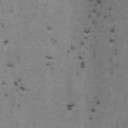oxide scale of temperature system: (66, 0, 119, 77), (0, 77, 26, 107), (89, 100, 101, 120), (0, 22, 9, 46), (46, 26, 57, 44), (6, 55, 21, 68), (66, 102, 76, 112), (45, 54, 53, 66)
